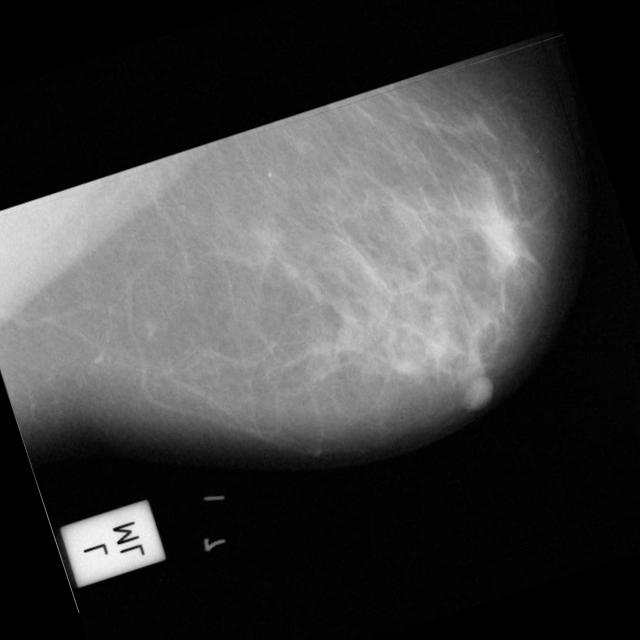ASYM: (473, 210, 533, 270)
